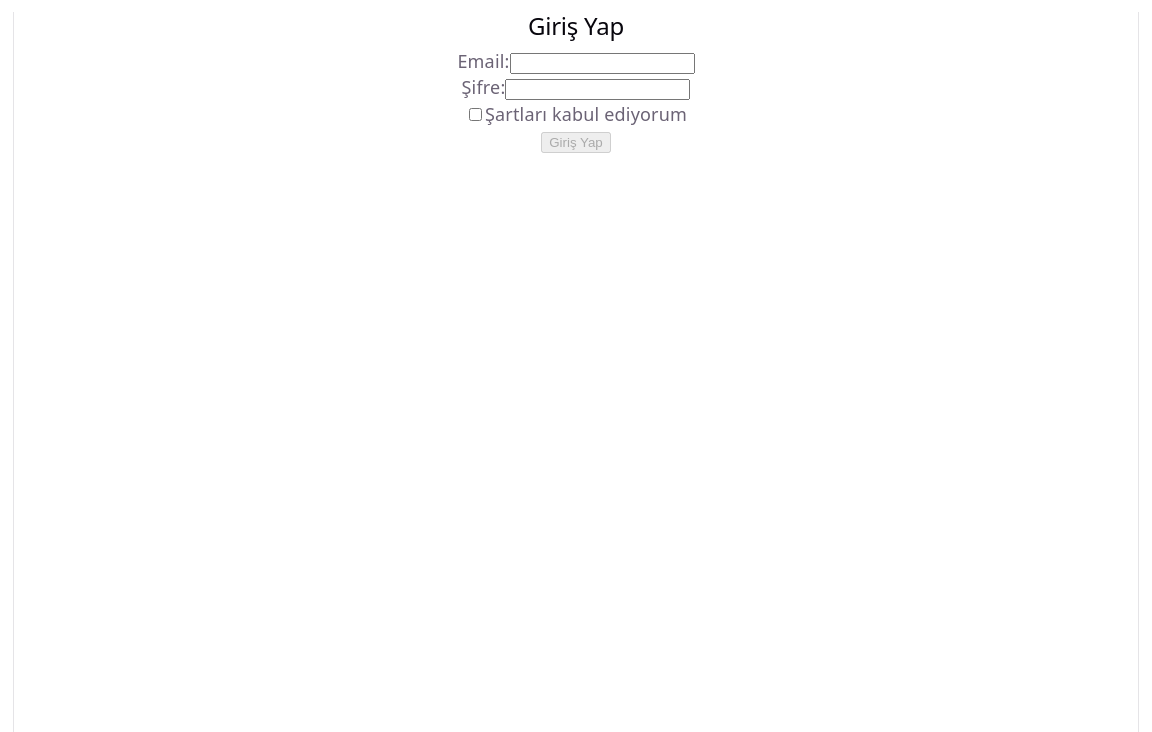
Test: Login Formu E2E Testleri › Email ve şifre yanlışsa 2 hata mesajı görünmeli
The width and height of the screenshot is (1152, 732).
Type "yanlis-email" into the field named "email" at coordinates (603, 64), box [510, 53, 695, 74]
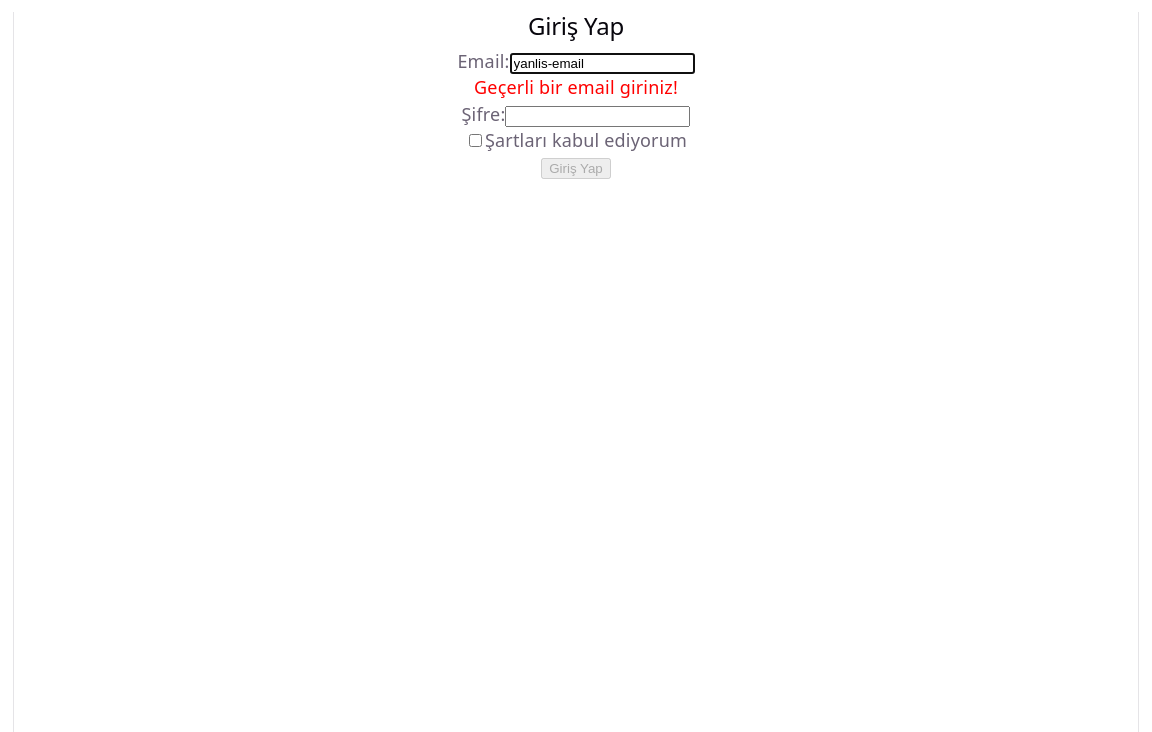
Type "123" into the password field named "password" at coordinates (598, 117), box [505, 106, 690, 127]
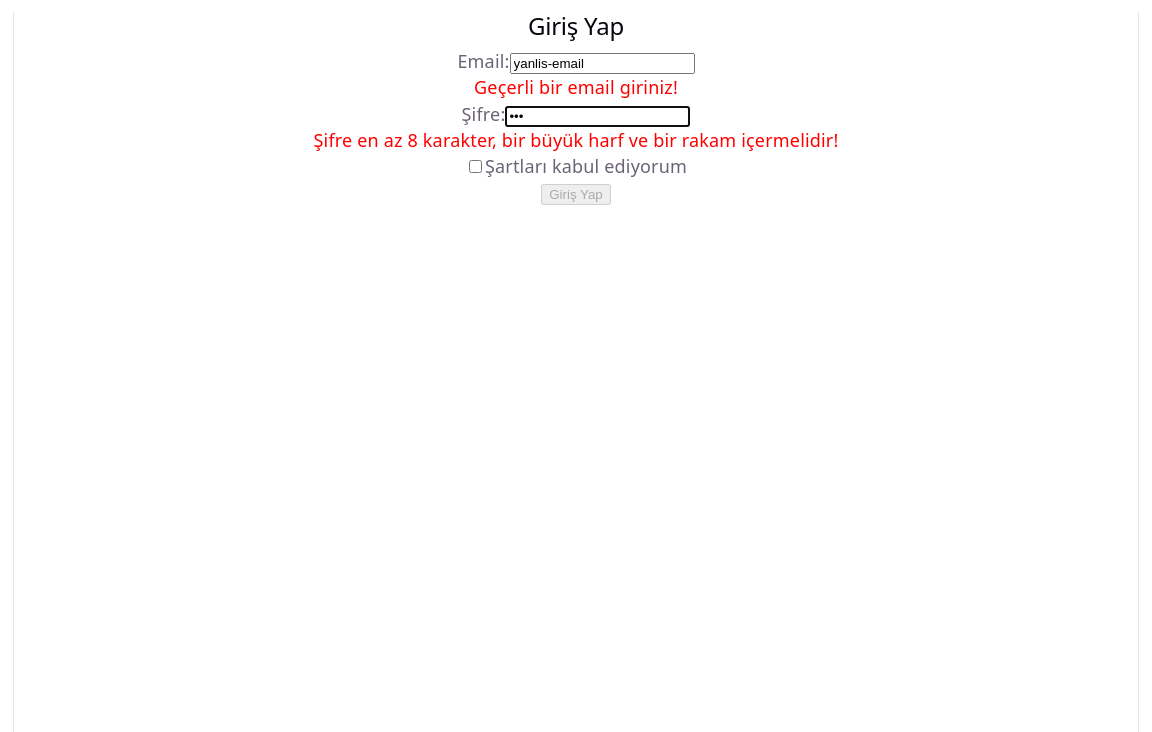
Check: the number of elements with class "error" is 2, box [474, 75, 678, 99]; [314, 128, 838, 152]
Check: the text with class "error" shows "Şifre en az 8 karakter", box [314, 128, 839, 152]
